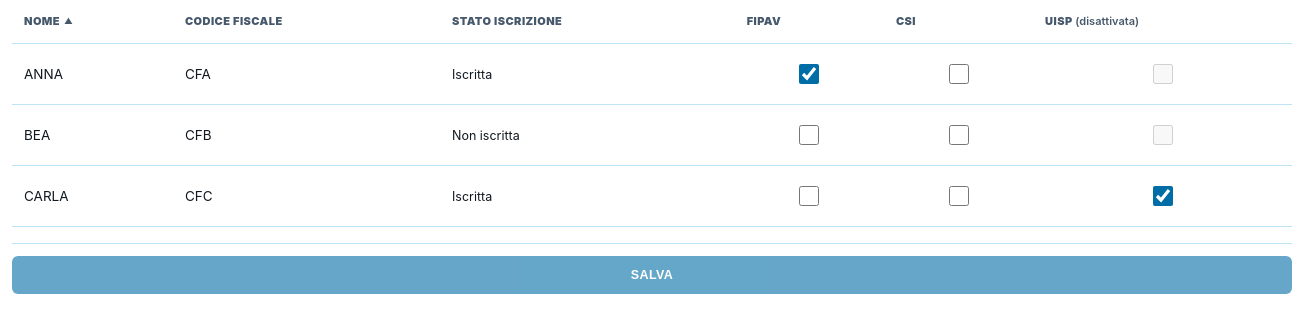
Test case: ConfermaTesseramentiForm › solo la riga cambiata invia atletaModificata, e tornare allo stato iniziale la ripulisce
Click the checkbox named "BEA: Centro Sportivo Italiano". click: [958, 135]
box: [948, 125, 968, 145]
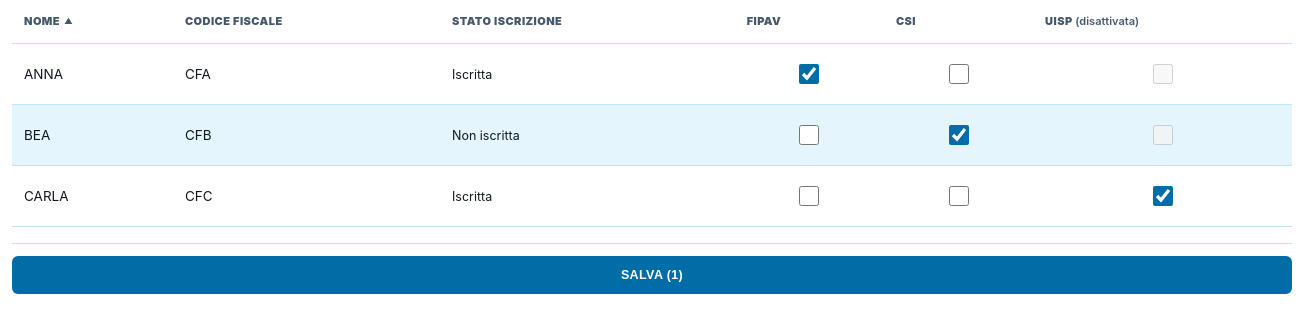
Check: the button "Salva (1)" is enabled, box [12, 256, 1292, 294]
Check: the button "Salva (1)" is shown, box [12, 256, 1292, 294]
Click the checkbox named "BEA: Centro Sportivo Italiano". click: [958, 135]
box: [948, 125, 968, 145]
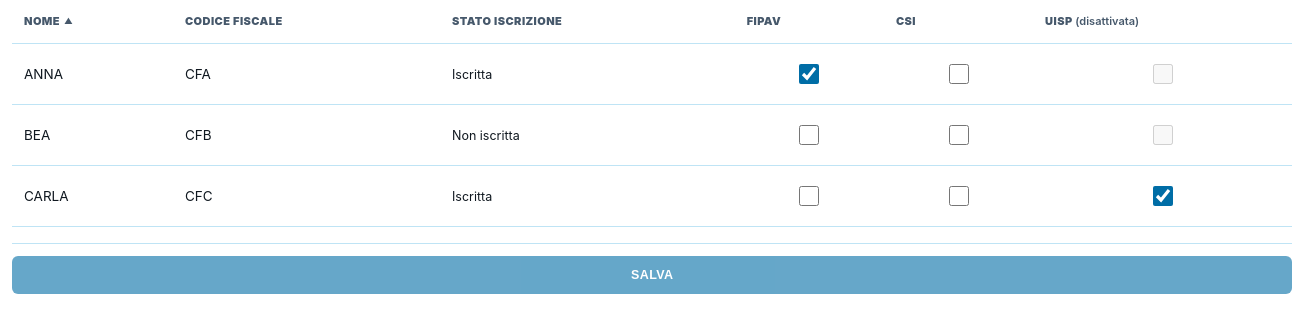
Check: the button "Salva" is disabled, box [12, 256, 1292, 294]
